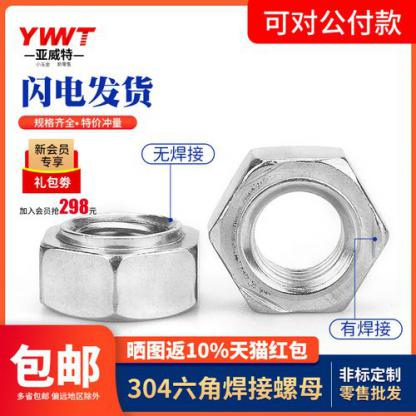FOD: (208, 144, 388, 319), (33, 210, 202, 322)
